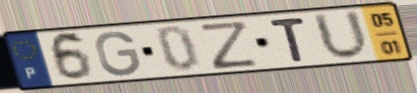0: (155, 24, 202, 74)
6: (46, 30, 96, 84)
G: (93, 29, 143, 78)
T: (266, 15, 309, 64)
U: (309, 8, 373, 63)
Z: (197, 19, 261, 72)
